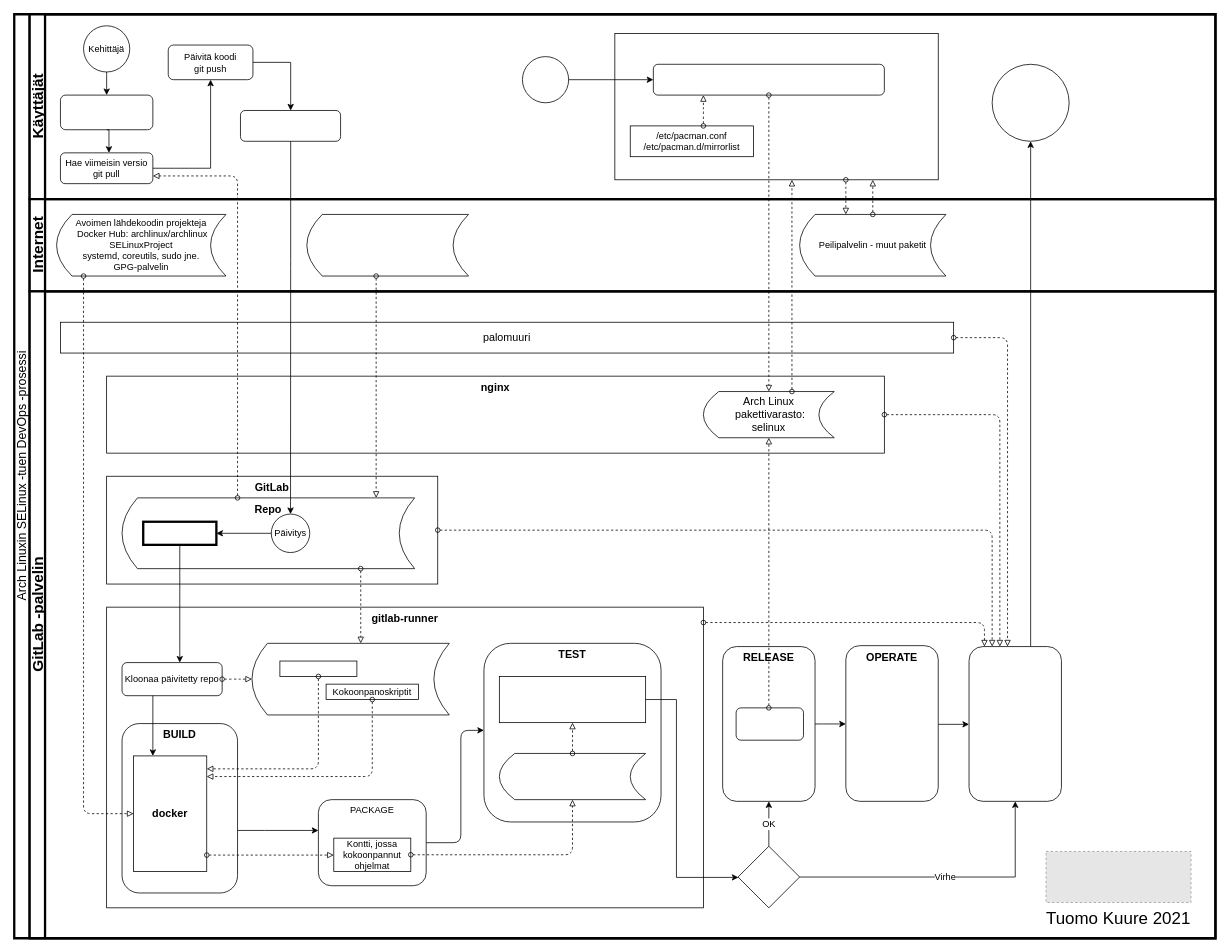
This 1230x952 diagram has some shape labels left out. Grey dashed boxes stand in for pictures. Here are the shapes that lost their labels. From the top down, the box of each, then its label:
(522, 56, 569, 103): Käyttäjä
(653, 64, 884, 95): Päivitä Arch Linux sudo pacman -Suy
(60, 94, 153, 130): Käynnistä Kehitystyökalu IDE tms.
(614, 33, 938, 180): Arch Linux jossa SELinux tuki
(991, 64, 1069, 141): FEEDBACK
(240, 110, 341, 141): Tunnistautuminen
(306, 214, 469, 276): Upstream GitHub: archlinuxhardened/selinux
(142, 520, 217, 546): .gitlab-ci.yml
(279, 660, 357, 676): Dockerfile
(499, 676, 646, 723): Virtuaalikoneen asennus libvirt+QEMU
(735, 707, 803, 740): Allekirjoita pakettirepo?
(968, 646, 1061, 801): MONITOR
(499, 753, 646, 800): Pakettivarasto
(737, 845, 800, 908): Testit ok?
